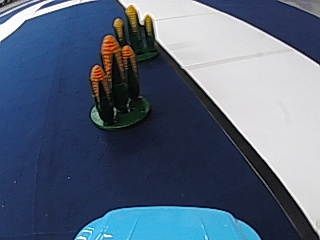corn: (87, 28, 147, 131), (111, 6, 156, 61)
